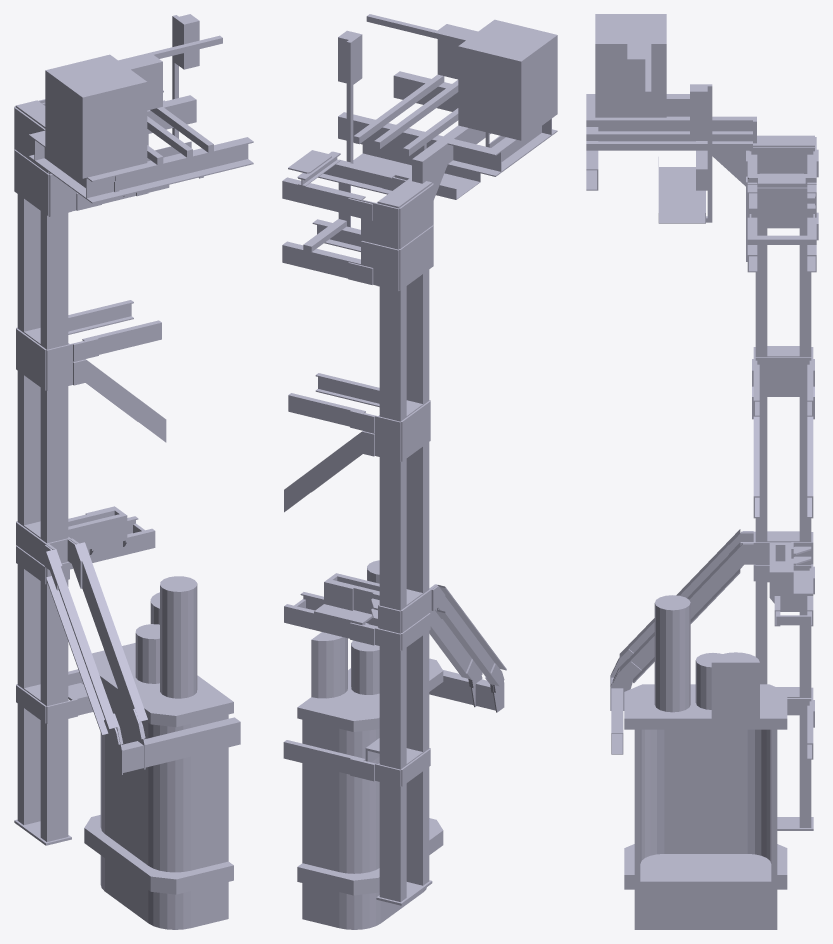
Rendered from Tower-Turret-SideC-cut3.glb.
3 renders of one model, left to right at view 1: azimuth 30°, elevation 25°; view 2: azimuth 150°, elevation 25°; view 3: azimuth 270°, elevation 25°, orthographic. The views are drawn at different scales.
Visible parts, largest first — view 1: null; view 2: null; view 3: null.
Boxes of the visible parts, bbox=[...] form: null: bbox=[14, 14, 253, 929]; null: bbox=[282, 14, 557, 929]; null: bbox=[586, 14, 818, 929].
Size of the model in its own units: 1.55 by 7.78 by 1.95.
